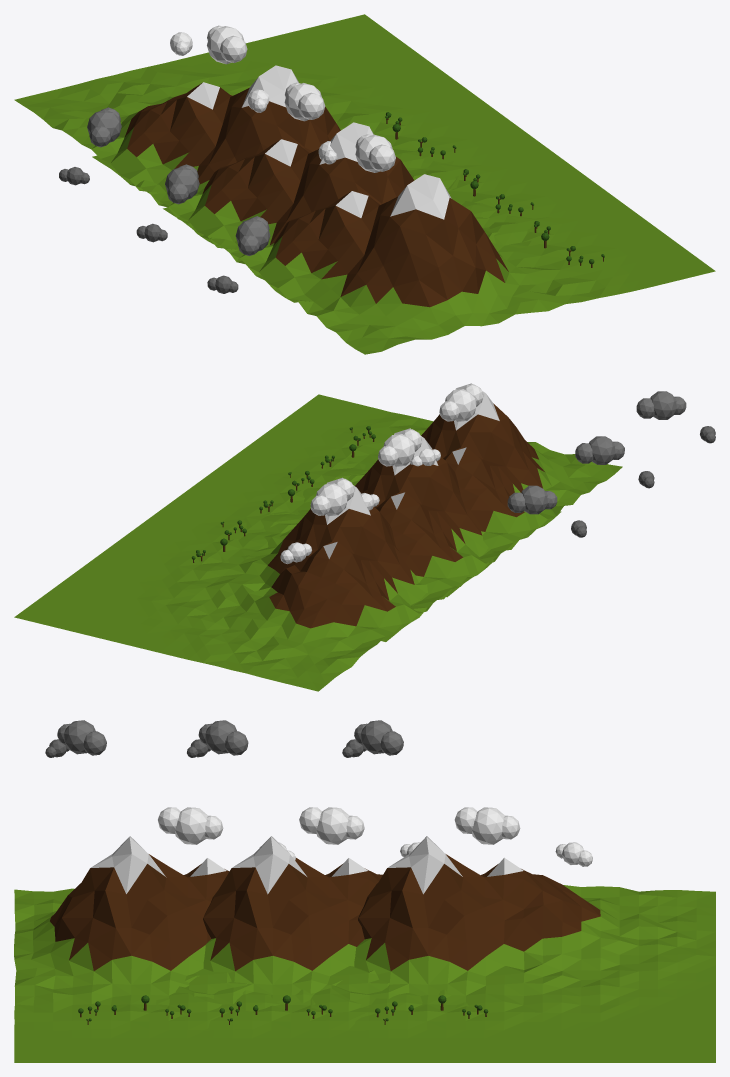
File: Mountain.glb
The picture shows the model from 3 angles, top to bottom: view 1: azimuth 30°, elevation 25°; view 2: azimuth 150°, elevation 25°; view 3: azimuth 270°, elevation 25°; orthographic projection. The views are drawn at different scales.
Parts seen in each view (by area): view 1: CombinedMesh (×7); view 2: CombinedMesh (×7); view 3: CombinedMesh (×7).
Part boxes in pixels (left/top/right/bottom): CombinedMesh (×7): left=14, top=14, right=715, bottom=354; CombinedMesh (×7): left=14, top=383, right=715, bottom=691; CombinedMesh (×7): left=14, top=720, right=715, bottom=1062.
Size of what is drawn, in the model's own units: 39.36 by 10.29 by 49.65.
